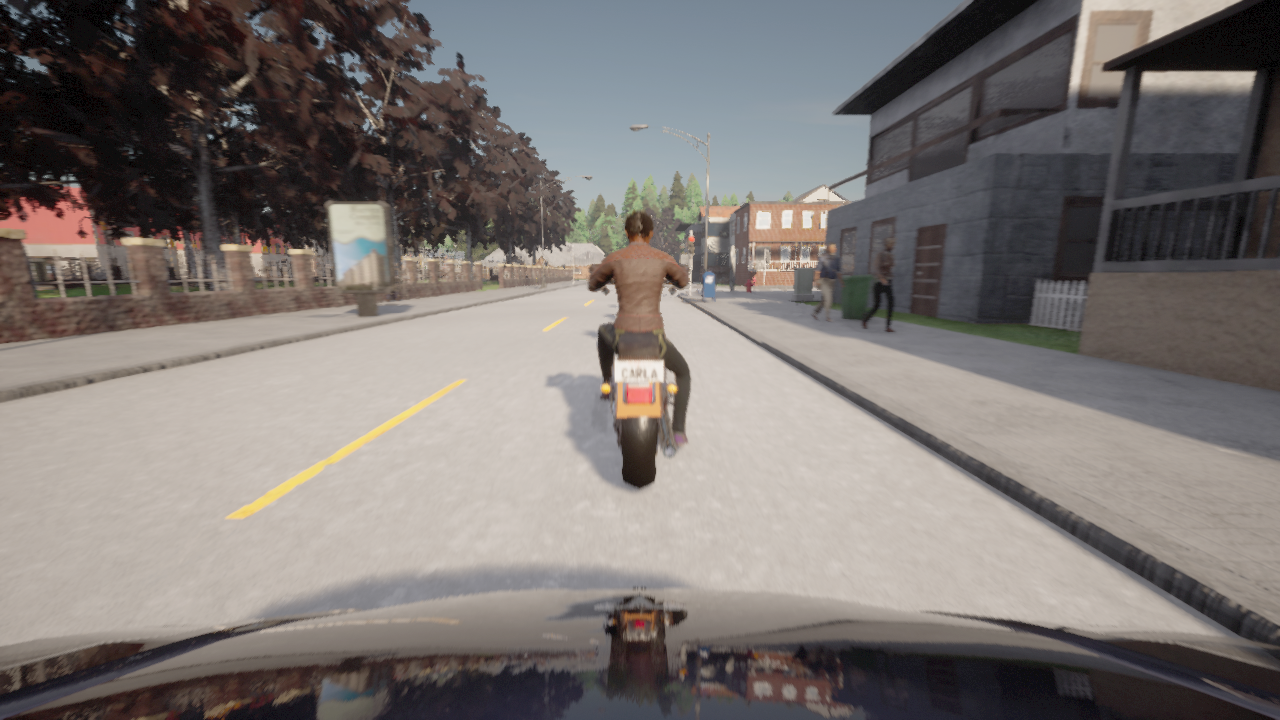cyclist: (0, 588, 1279, 719), (588, 264, 689, 488)
pedestrian: (861, 236, 895, 332), (811, 242, 844, 322), (386, 290, 400, 302), (535, 274, 539, 287)
